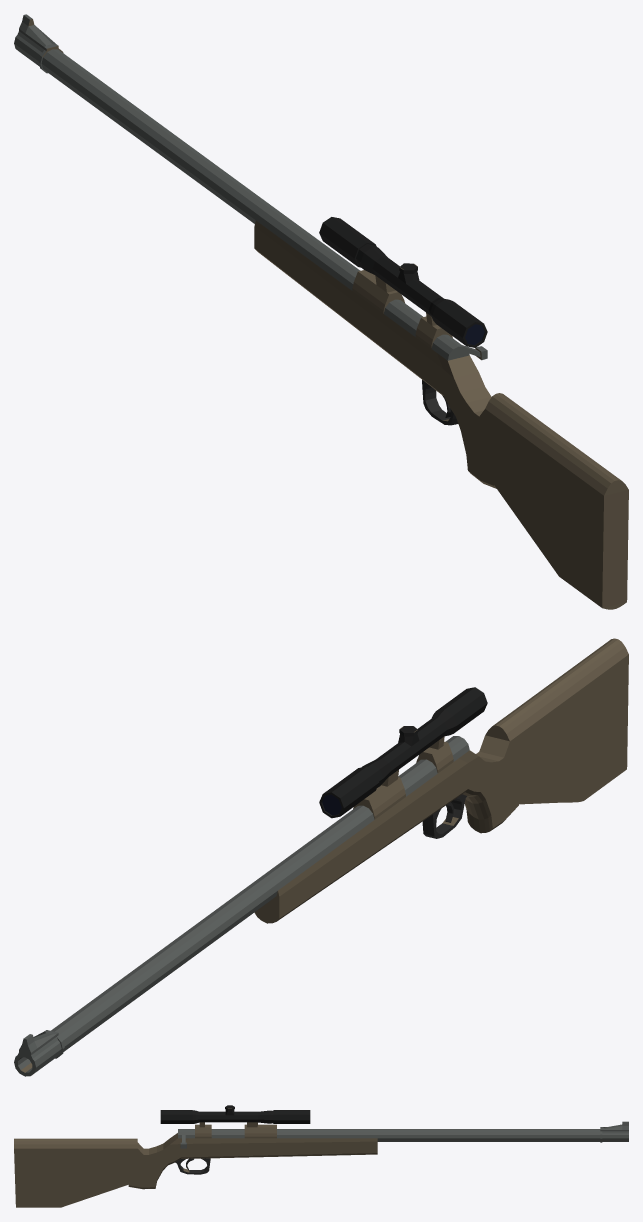
File: sniper.fbx
3 views of the same model, one above another, from view 1: azimuth 30°, elevation 25°; view 2: azimuth 150°, elevation 25°; view 3: azimuth 270°, elevation 25° (orthographic). The views are drawn at different scales.
Visible parts, largest first — view 1: Cylinder; view 2: Cylinder; view 3: Cylinder.
Part boxes in pixels (x1=…): Cylinder: x1=14, y1=14, x2=628, y2=609; Cylinder: x1=14, y1=638, x2=628, y2=1076; Cylinder: x1=14, y1=1105, x2=628, y2=1207.
Size of the model in its own units: 230 by 957 by 5356.
